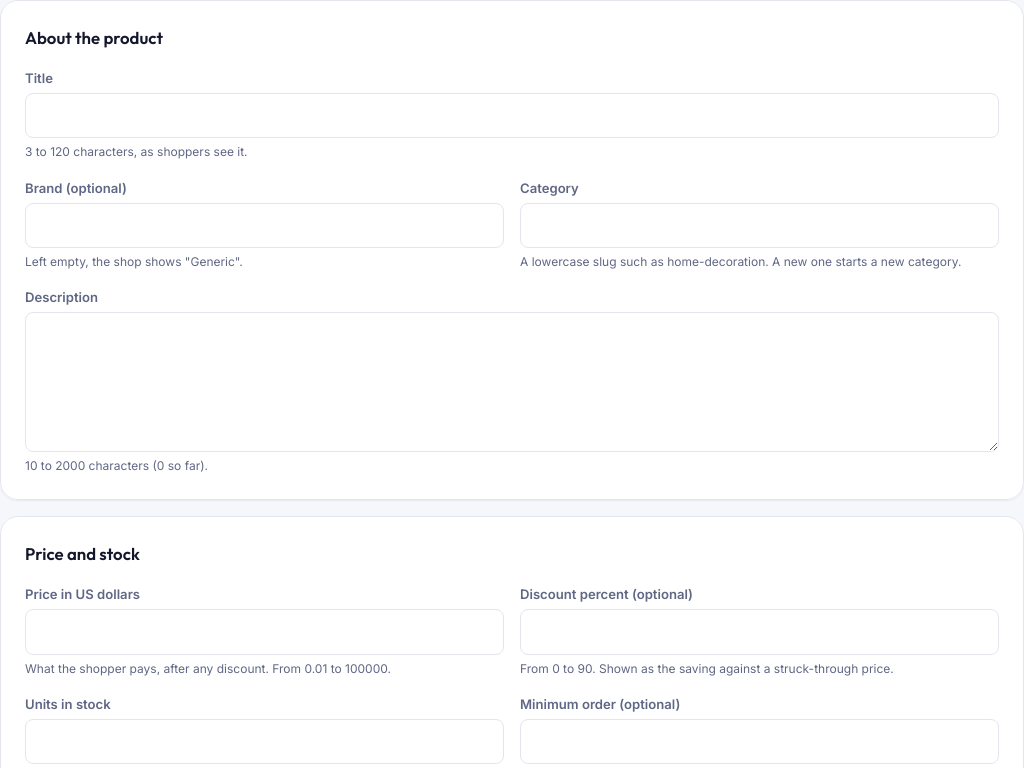
ProductForm › turns a typed category into a slug when the field is left
The image size is (1024, 768).
Step 1. Type "Home Decoration " into the field labelled "Category" → (760, 225), box left=520, top=203, right=999, bottom=248
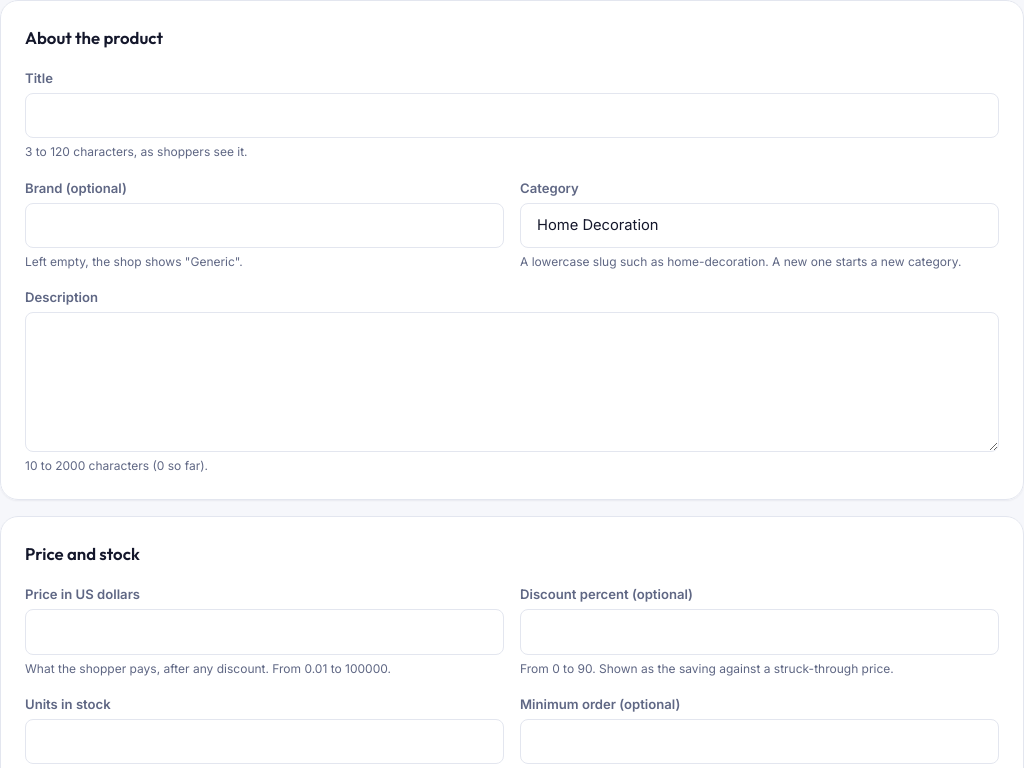
Step 2. Leave the field labelled "Category", box left=520, top=203, right=999, bottom=248
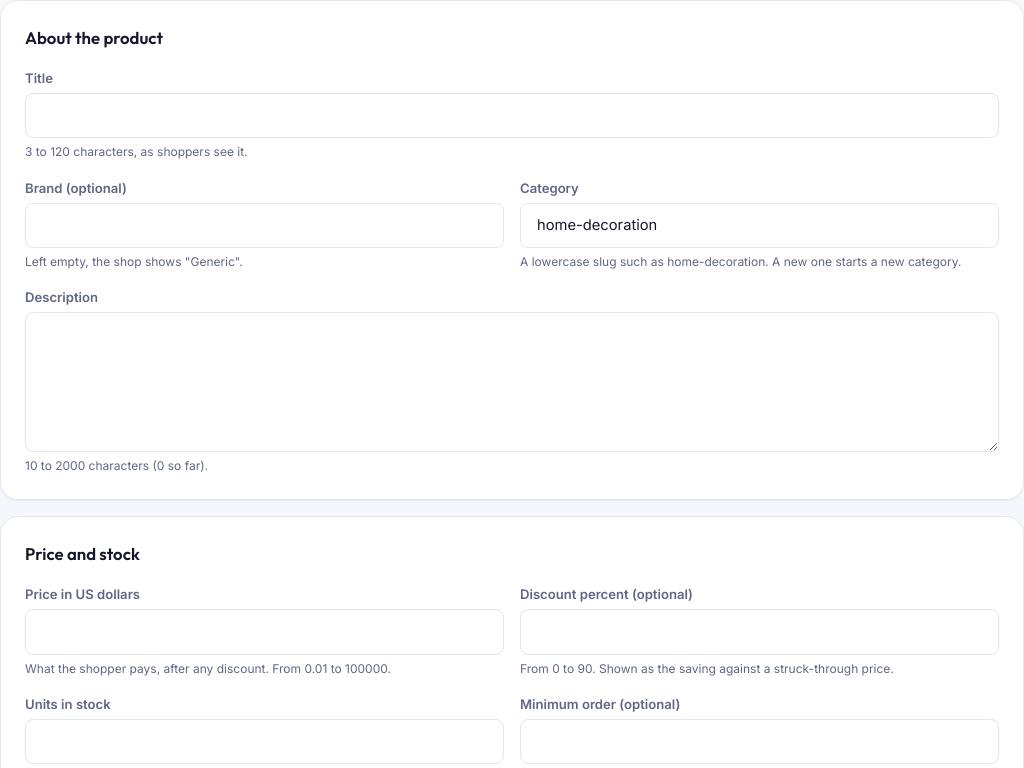
Now the field labelled "Category" holds "home-decoration", box left=520, top=203, right=999, bottom=248
